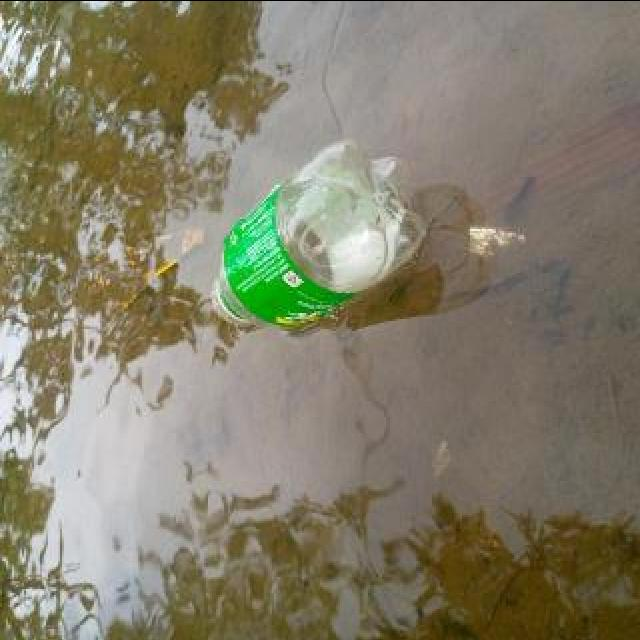Bottle: (200, 128, 438, 340)
